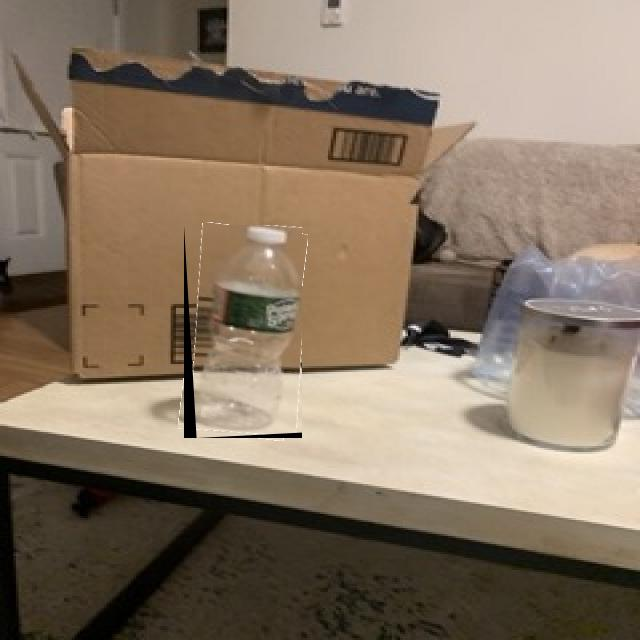water_bottle: (184, 225, 302, 438)
